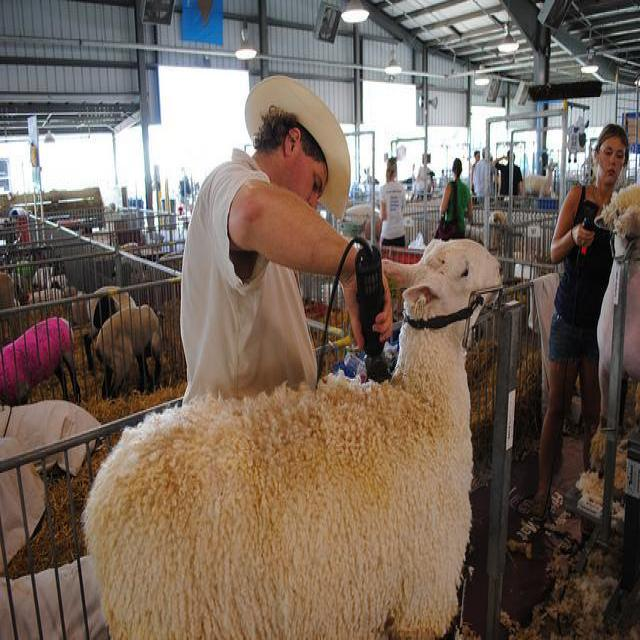Sheep: (81, 237, 505, 639), (592, 184, 639, 468), (0, 402, 106, 478), (0, 321, 83, 406), (97, 308, 166, 396), (85, 288, 137, 376)
